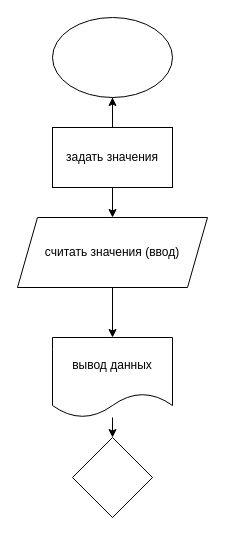
This 225x535 diagram has some shape labels left out. Here are the shapes that lost their labels. From the top down, the box of each, then its label:
(52, 16, 172, 98): start end
(72, 436, 152, 518): условие
